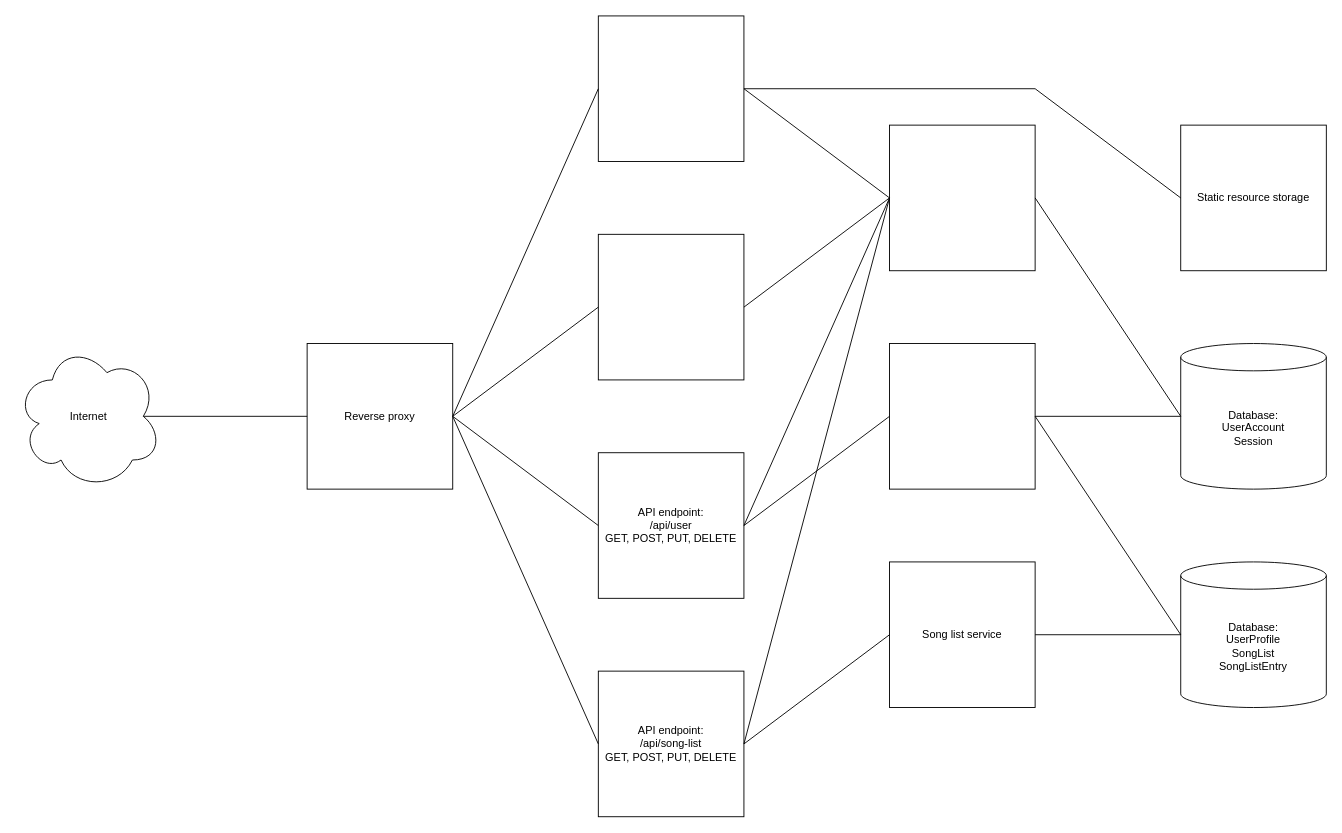
Some shapes in this 1342 by 833 pixel diagram are drawn without their labels. Here are the shapes that lost their labels. From the top down, the centre of each, then its label:
At (x=670, y=88): "Web page endpoint: /... GET".
At (x=962, y=197): "Authentication service".
At (x=670, y=306): "API endpoint: /api/auth POST, DELETE".
At (x=962, y=416): "User service".
